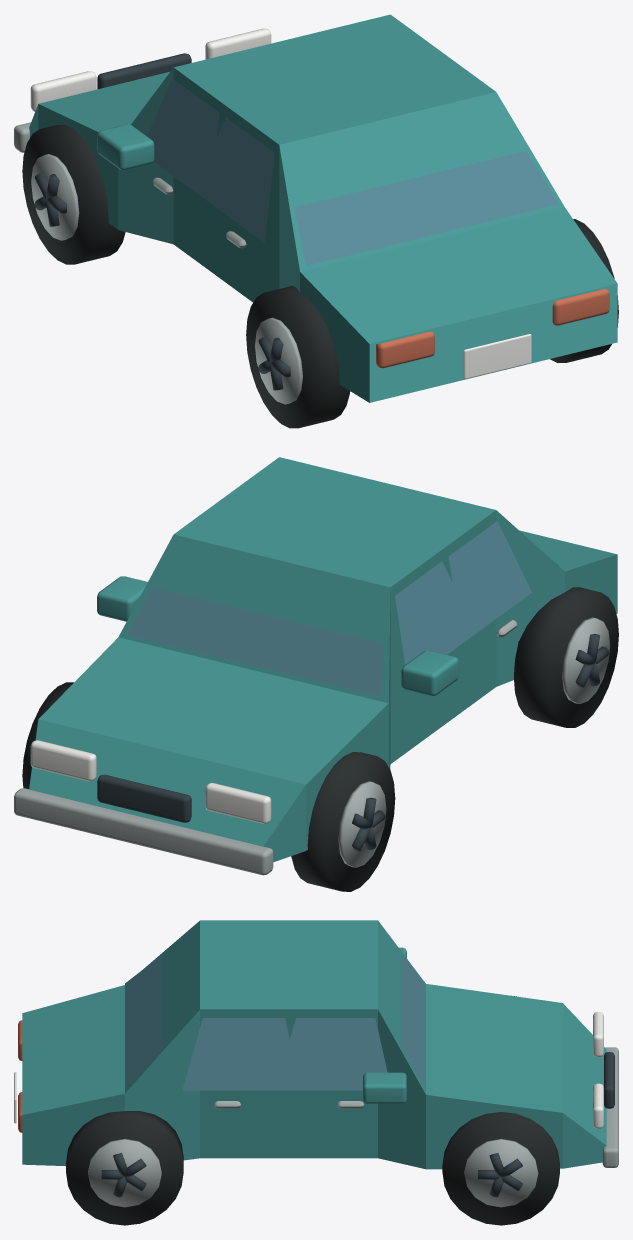
Rendered from sedan.glb.
The picture shows the model from 3 angles, top to bottom: view 1: azimuth 30°, elevation 25°; view 2: azimuth 150°, elevation 25°; view 3: azimuth 270°, elevation 25°; orthographic projection. The views are drawn at different scales.
Visible parts, largest first — view 1: teal, glass, rubber, metal, white, dark, red; view 2: teal, glass, rubber, metal, dark, white; view 3: teal, glass, rubber, metal, dark, white.
Part boxes in pixels (x1=…): teal: x1=29, y1=14, x2=617, y2=402; glass: x1=147, y1=78, x2=558, y2=265; rubber: x1=22, y1=124, x2=618, y2=428; metal: x1=14, y1=122, x2=302, y2=404; white: x1=30, y1=28, x2=531, y2=379; dark: x1=34, y1=53, x2=290, y2=390; red: x1=376, y1=289, x2=609, y2=368; teal: x1=29, y1=457, x2=617, y2=862; glass: x1=127, y1=521, x2=558, y2=696; rubber: x1=22, y1=587, x2=618, y2=891; metal: x1=14, y1=617, x2=610, y2=875; dark: x1=97, y1=634, x2=608, y2=851; white: x1=30, y1=740, x2=271, y2=823; teal: x1=22, y1=920, x2=606, y2=1169; glass: x1=125, y1=954, x2=425, y2=1090; rubber: x1=66, y1=996, x2=559, y2=1225; metal: x1=88, y1=1047, x2=618, y2=1207; dark: x1=101, y1=1052, x2=614, y2=1197; white: x1=14, y1=1012, x2=603, y2=1128.
Size of the model in its own units: 2.41 by 1.6 by 4.42.
